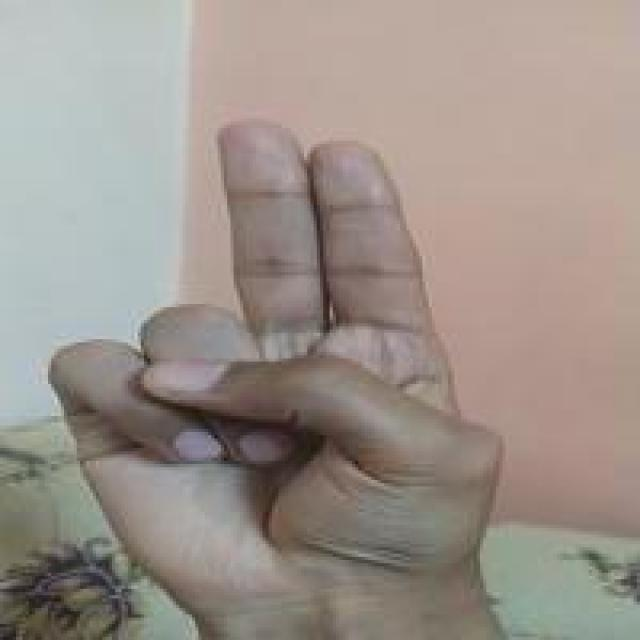U: (37, 106, 510, 611)
